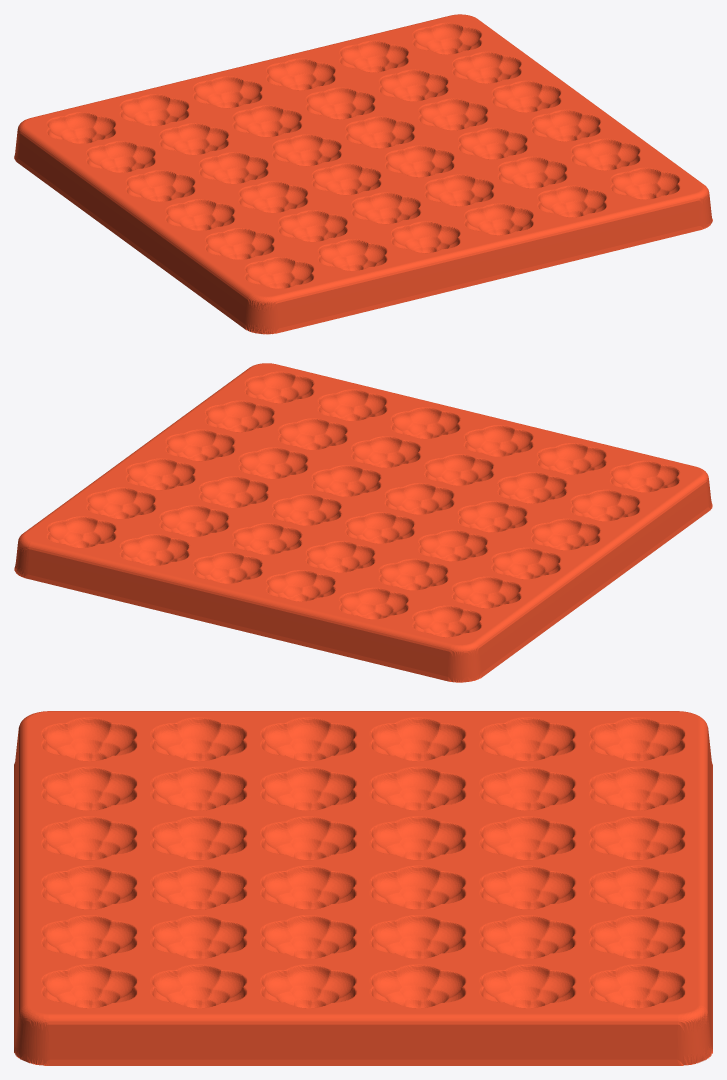
File: mold.glb
3 views of the same model, one above another, from view 1: azimuth 30°, elevation 25°; view 2: azimuth 150°, elevation 25°; view 3: azimuth 270°, elevation 25° (orthographic). The views are drawn at different scales.
Visible parts, largest first — view 1: geometry_0; view 2: geometry_0; view 3: geometry_0.
Boxes of the visible parts, x1=… form: geometry_0: x1=14, y1=14, x2=712, y2=334; geometry_0: x1=14, y1=363, x2=712, y2=682; geometry_0: x1=14, y1=711, x2=712, y2=1065.
Bounding box in the file's own units: 0.1877 × 0.0128 × 0.1766.
